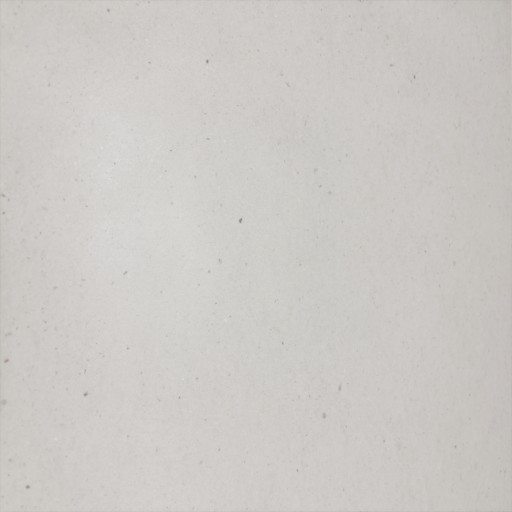lego: (217, 220, 296, 291)
